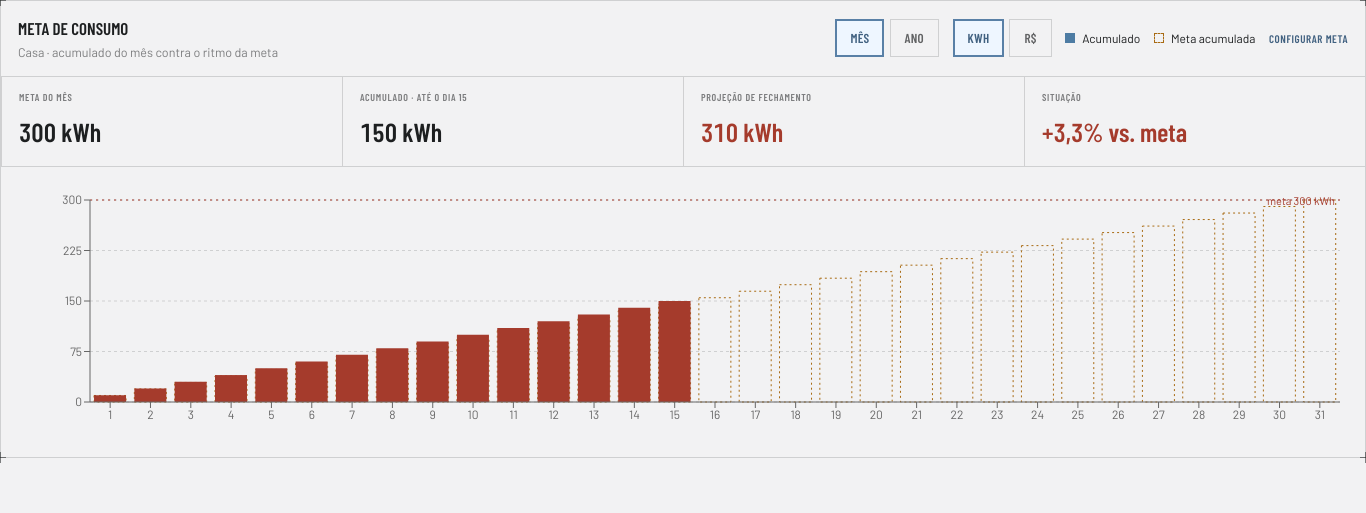
Scenario: GoalSection — Mês em R$ › sem custo diário (Grupo A e Tarifa Branca) explica e mostra '-', sem 0
The width and height of the screenshot is (1366, 513).
Expected: the text "Acumulado · até o dia 15" is shown, 360,91 -> 467,103
What coordinates should you click on to do the following:
click the button with test id "goal-unit-BRL"
I would click on:
 (1031, 38)
Its box is 1010,19 -> 1052,57.
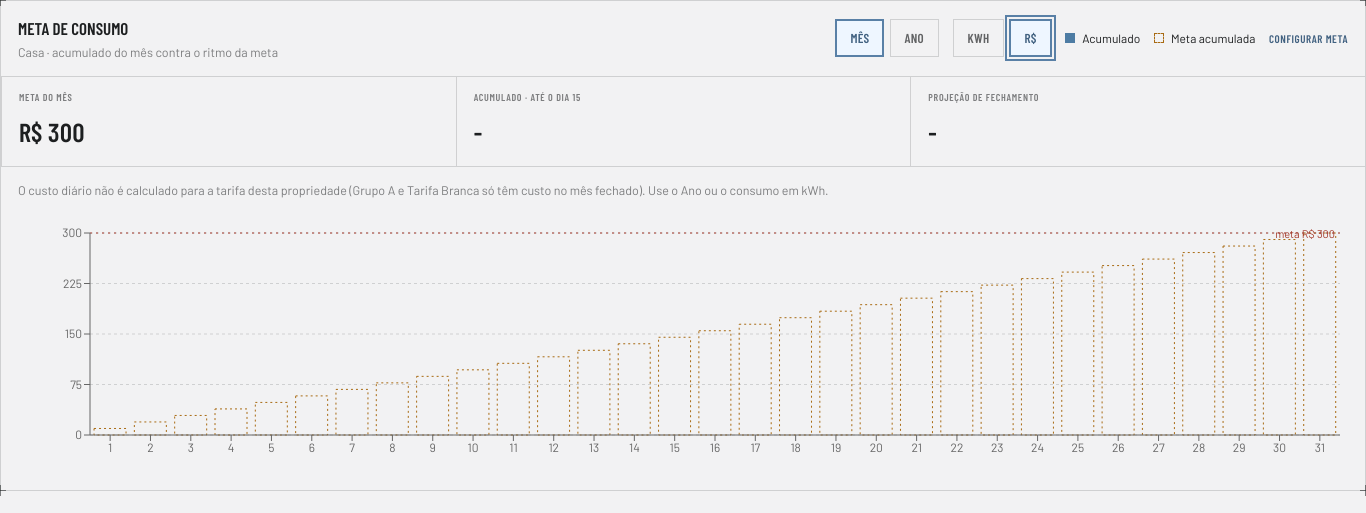
Expected: the text with test id "goal-note" shows "custo diário não é calculado", 18,182 -> 828,198
Expected: the text "-" below "Projeção de fechamento" is shown, 928,116 -> 937,148
